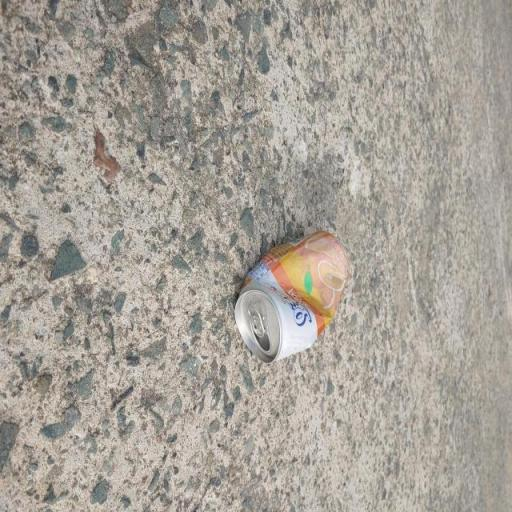metal: (222, 208, 360, 392)
